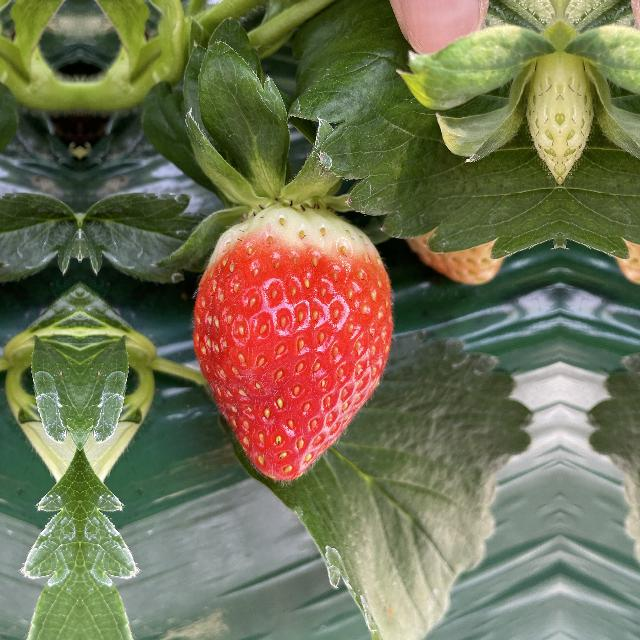Health_100: (181, 200, 403, 490)
